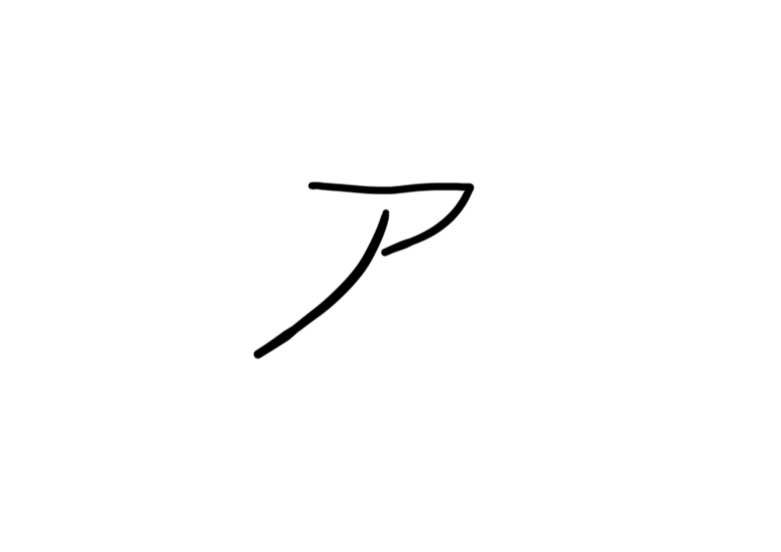a: (239, 170, 482, 372)
